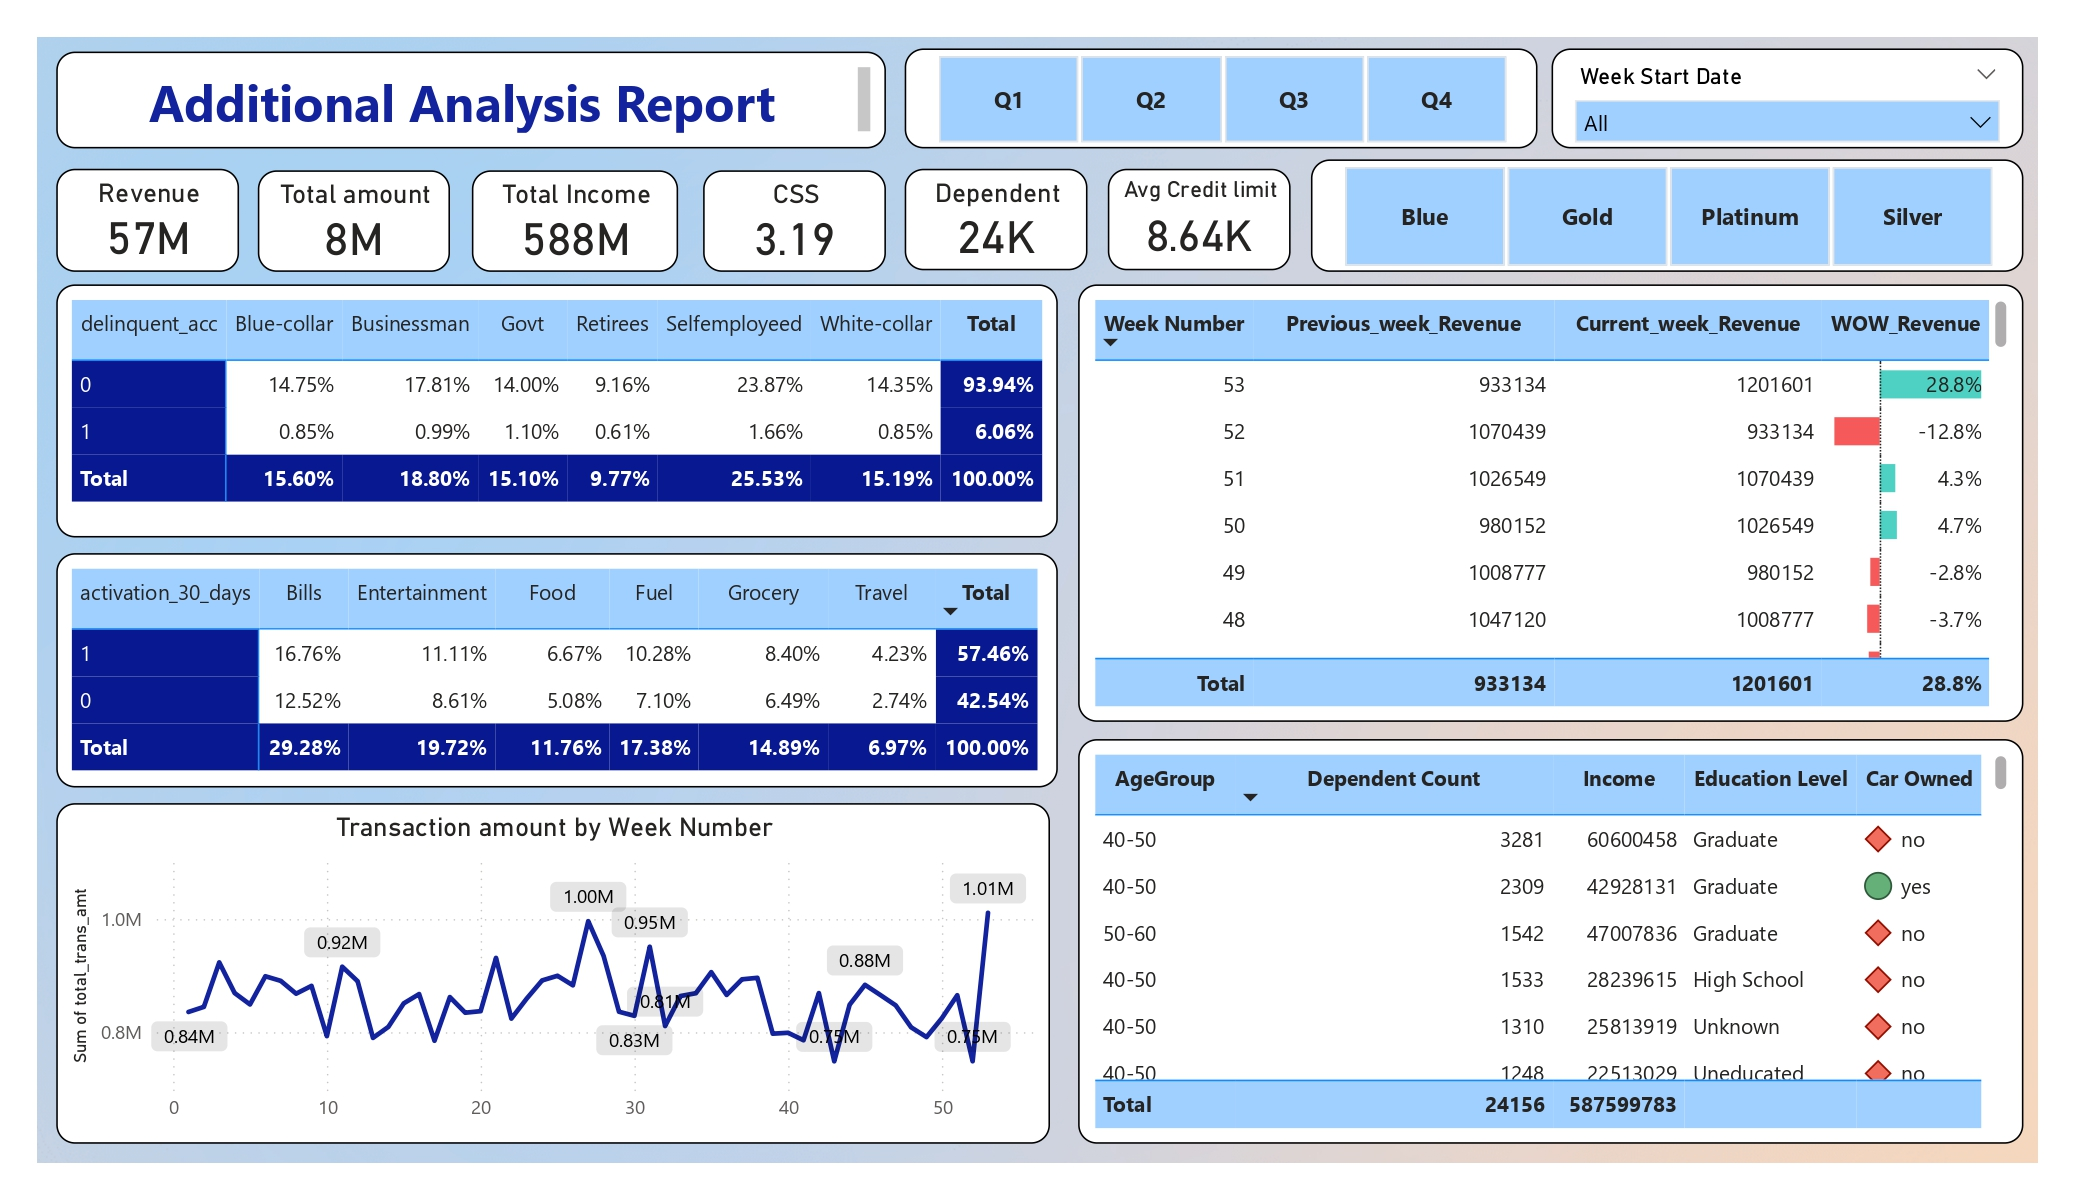

The page's visual inventory and layout, read from the dashboard file:
{"tool":"powerbi","page":{"name":"Additional Analysis","canvas":[1280,720],"ordinal":3},"visuals":[{"type":"tableEx","fields":{"Values":["public cc_detail.week_num2","public cc_detail.Previous_week_Revenue","public cc_detail.Current_week_Revenue","public cc_detail.wow_revenue"]},"box":[666.3,158.1,604.7,280.2],"z":0},{"type":"card","title":"Revenue ","fields":{"Values":["Sum(public cc_detail.Revenue)"]},"box":[11.6,83.7,117.4,66.3],"z":1000},{"type":"card","title":"Total Income","fields":{"Values":["Sum(public cust_detail.income)"]},"box":[277.9,84.9,132.6,65.1],"z":2000},{"type":"card","title":"Total amount","fields":{"Values":["Sum(public cc_detail.interest_earned)"]},"box":[140.7,84.9,123.3,65.1],"z":3000},{"type":"card","title":"CSS","fields":{"Values":["Avg(public cust_detail.cust_satisfaction_score)"]},"box":[425.6,84.9,117.4,65.1],"z":4000},{"type":"textbox","box":[11.6,9.3,531.4,62],"z":5000},{"type":"slicer","fields":{"Values":["public cc_detail.week_start_date"]},"box":[968.6,7,302.3,64],"z":6000},{"type":"slicer","fields":{"Values":["public cc_detail.qtr"]},"box":[554.7,7,405.8,64],"z":7000},{"type":"slicer","fields":{"Values":["public cc_detail.card_category"]},"box":[815.1,77.9,455.8,72.1],"z":8000},{"type":"lineChart","title":"Transaction amount by Week Number","fields":{"Y":["Sum(public cc_detail.total_trans_amt)"],"Category":["public cc_detail.week_num2","public cc_detail.week_start_date.Variation.Date Hierarchy.Month","public cc_detail.week_start_date.Variation.Date Hierarchy.Day"]},"box":[11.6,489.5,636,218.6],"z":9000},{"type":"pivotTable","fields":{"Rows":["public cc_detail.delinquent_acc"],"Values":["Min(public cc_detail.delinquent_acc)"],"Columns":["public cust_detail.customer_job"]},"box":[11.6,158.1,641.9,161.6],"z":10000},{"type":"card","title":"Dependent ","fields":{"Values":["Sum(public cust_detail.dependent_count)"]},"box":[554.7,83.7,117.4,65.1],"z":11000},{"type":"card","title":"Avg Credit limit","fields":{"Values":["Avg(public cc_detail.credit_limit)"]},"box":[684.9,83.7,117.4,65.1],"z":12000},{"type":"tableEx","fields":{"Values":["public cust_detail.AgeGroup","Sum(public cust_detail.dependent_count)","Sum(public cust_detail.income)","public cust_detail.education_level","public cust_detail.car_owner"]},"box":[666.3,448.8,604.7,259.3],"z":13000},{"type":"pivotTable","fields":{"Rows":["public cc_detail.activation_30_days"],"Values":["Sum(public cc_detail.activation_30_days)"],"Columns":["public cc_detail.exp_type"]},"box":[11.6,330.2,641.9,150],"z":14000}]}

Visuals, with their boxes in screenshot pixels (x1, y1, x2, y2):
tableEx - public cc_detail.week_num2 x public cc_detail.Previous_week_Revenue: 1076/282/2009/714
"Revenue " card: 67/167/248/269
"Total Income" card: 477/169/682/269
"Total amount" card: 266/169/456/269
"CSS" card: 705/169/886/269
textbox: 67/52/886/148
slicer - public cc_detail.week_start_date: 1542/49/2008/147
slicer - public cc_detail.qtr: 904/49/1530/147
slicer - public cc_detail.card_category: 1306/158/2008/269
"Transaction amount by Week Number" lineChart: 67/793/1047/1130
pivotTable - public cc_detail.delinquent_acc x Min(public cc_detail.delinquent_acc): 67/282/1056/531
"Dependent " card: 904/167/1085/267
"Avg Credit limit" card: 1105/167/1286/267
tableEx - public cust_detail.AgeGroup x Sum(public cust_detail.dependent_count): 1076/730/2009/1130
pivotTable - public cc_detail.activation_30_days x Sum(public cc_detail.activation_30_days): 67/547/1056/778
